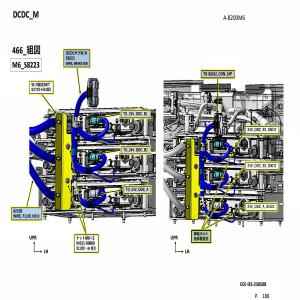PartNumber: (76, 240, 95, 246), (31, 87, 51, 92)
